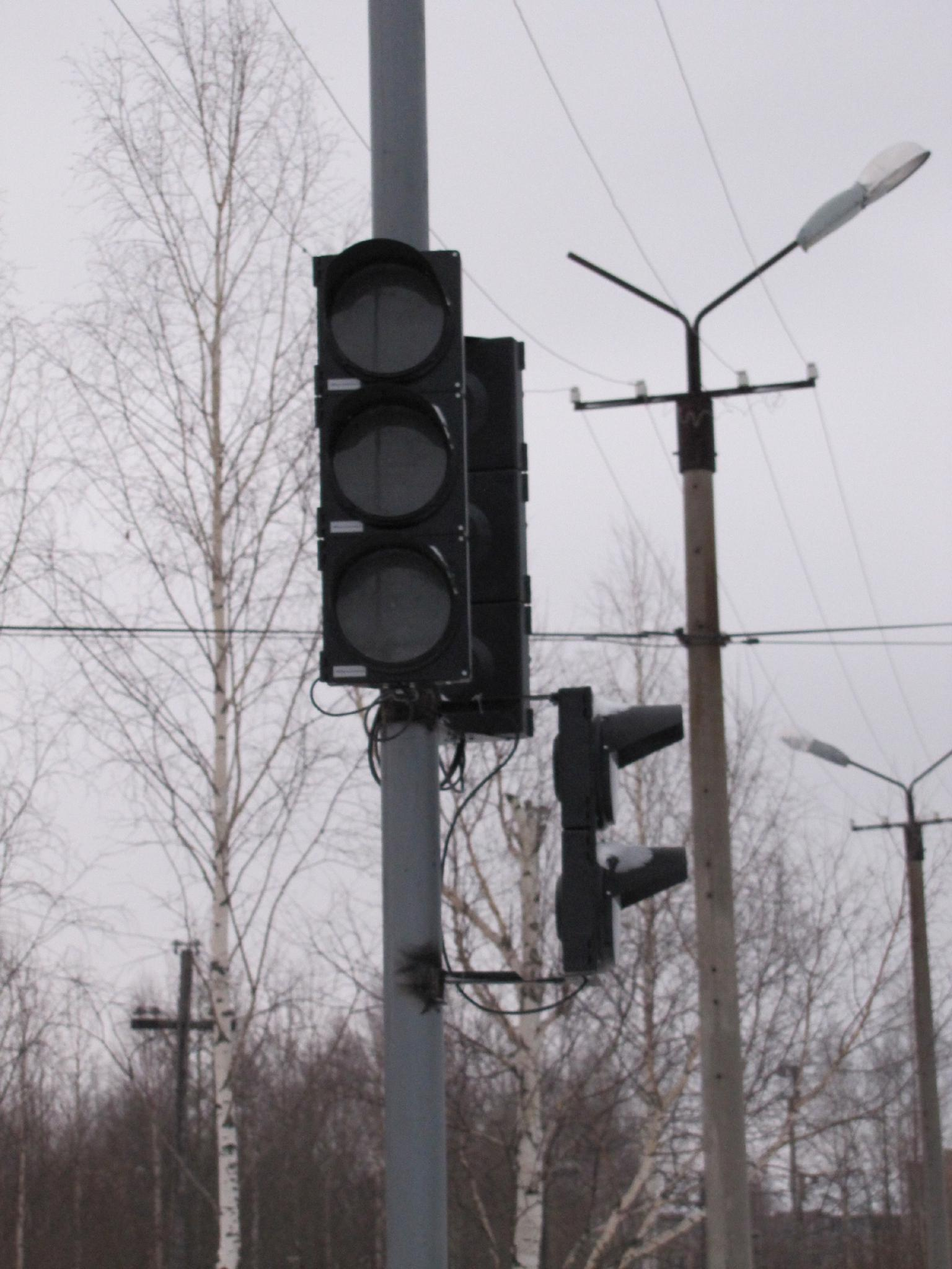off traffic light: (314, 237, 473, 690), (549, 687, 687, 977)
